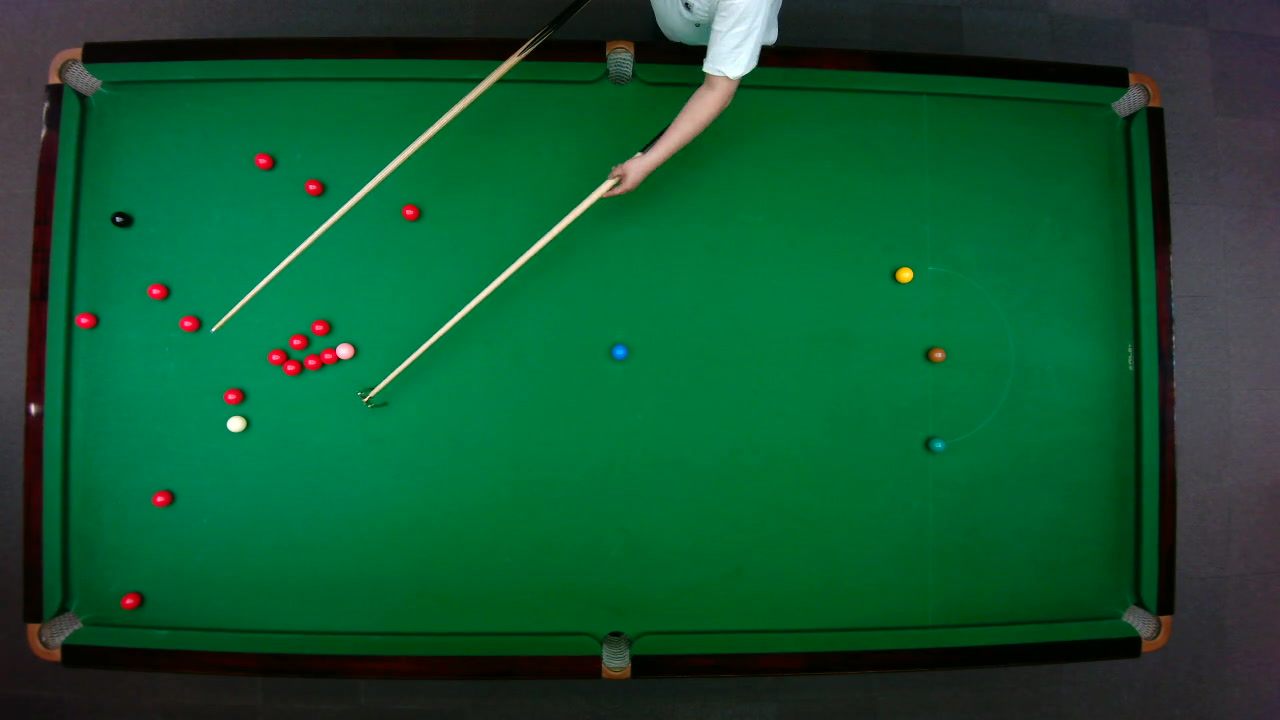bag: (25, 609, 83, 661), (45, 46, 102, 96), (1120, 603, 1172, 652), (1108, 71, 1161, 118), (600, 629, 630, 680), (605, 38, 633, 85)
black: (109, 210, 130, 228)
blue: (610, 343, 628, 360)
brown: (926, 346, 946, 362)
cue: (204, 0, 597, 336)
green: (926, 435, 946, 452)
pink: (334, 341, 355, 360)
red: (118, 590, 142, 610), (73, 310, 97, 329), (145, 281, 168, 300), (149, 489, 173, 507), (177, 314, 200, 332), (303, 177, 324, 196), (253, 151, 274, 170), (222, 387, 244, 404), (400, 203, 420, 221), (281, 358, 302, 375), (309, 318, 330, 335), (302, 353, 323, 370), (287, 333, 308, 350), (266, 348, 287, 365), (319, 346, 337, 365)
white: (225, 413, 247, 433)
yellow: (893, 265, 914, 283)
zone: (926, 266, 1013, 444)
